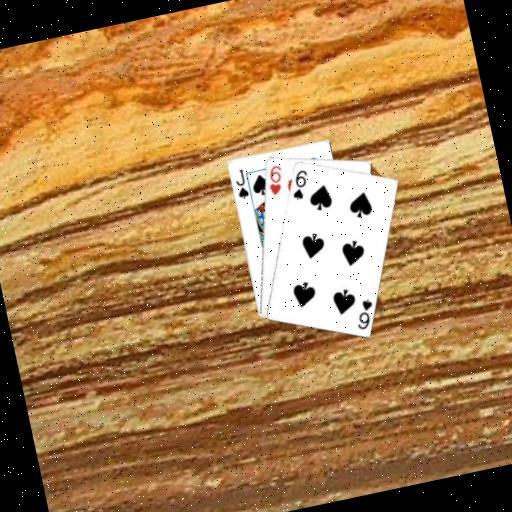6H: (262, 161, 288, 198)
6S: (285, 165, 314, 203), (349, 295, 378, 332)
JS: (230, 165, 251, 201)
